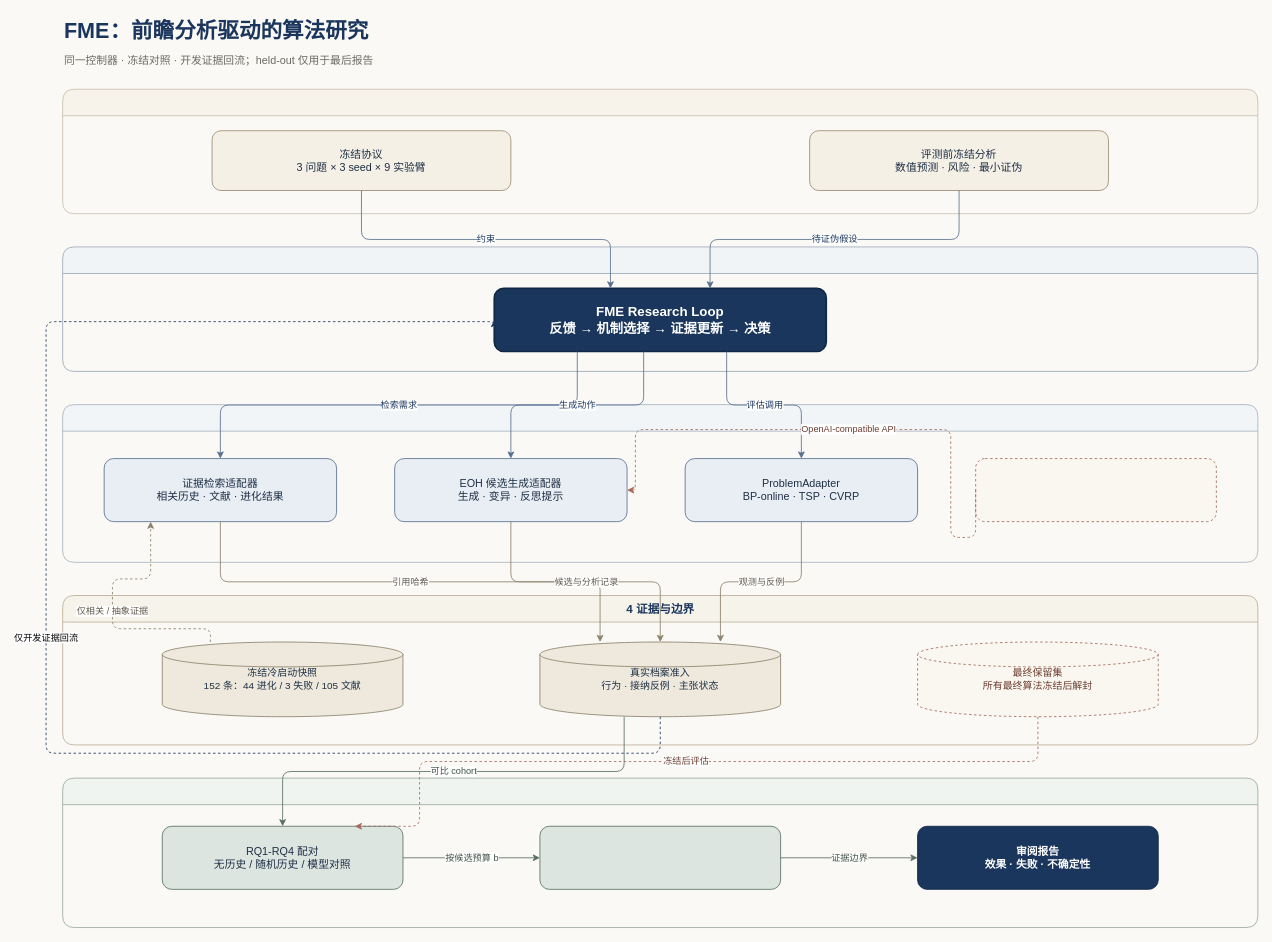
The diagram is 1272 pixels wide and 942 high, and some of its shapes have lost their labels. Here are the shapes that lost their labels. From the top down, the box of each, then its label:
(62, 88, 1258, 214): 1 研究输入
(62, 246, 1258, 371): 2 科学控制（唯一顶层）
(62, 404, 1258, 562): 3 可替换适配器（EOH / RAG 不再是第二控制器）
(975, 458, 1216, 522): OpenCode Go DeepSeek V4 Flash / Pro
(62, 777, 1258, 928): 5 可证伪输出
(539, 825, 781, 889): 质量与分析两条评价轴 预算曲线 · 方向预测 · 概率校准
